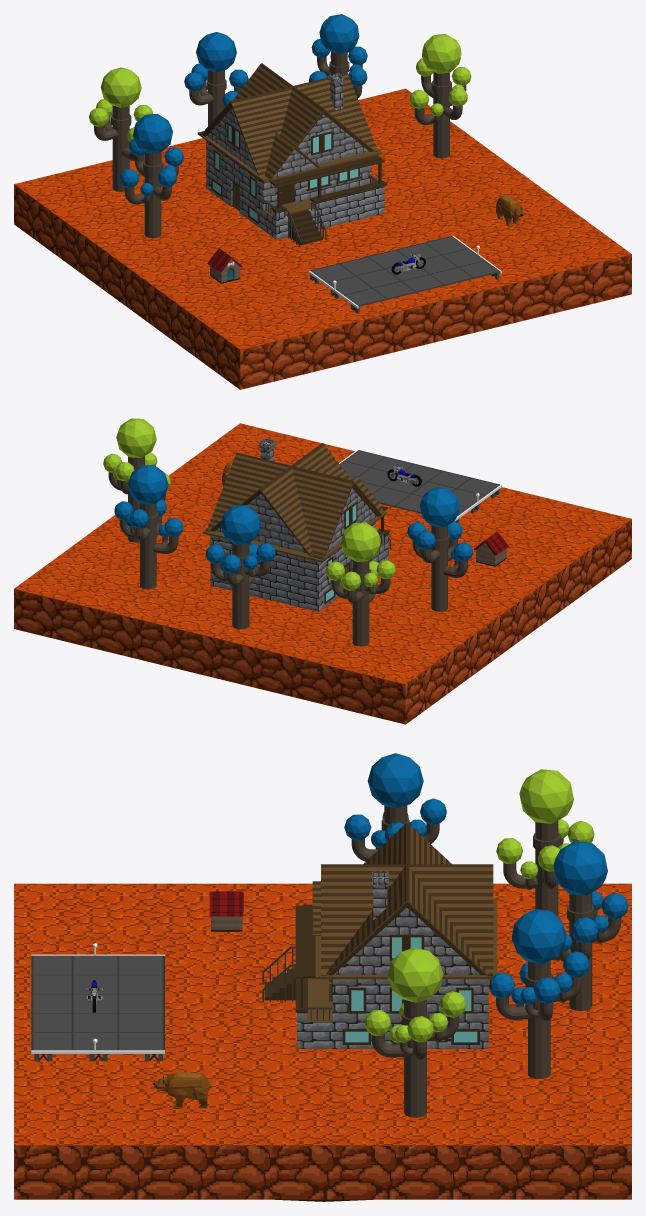
3 renders of one model, top to bottom at view 1: azimuth 30°, elevation 25°; view 2: azimuth 150°, elevation 25°; view 3: azimuth 270°, elevation 25°, orthographic. The views are drawn at different scales.
Parts seen in each view (by area): view 1: Cube.001, Cube.586, OBJRANDOM_DOGHOUSE, ANIMAL_OSO; view 2: Cube.001, Cube.586, OBJRANDOM_DOGHOUSE; view 3: Cube.001, Cube.586, ANIMAL_OSO, OBJRANDOM_DOGHOUSE.
Boxes of the visible parts, <box> form: Cube.001: <box>14,14,631,389</box>; Cube.586: <box>197,63,387,246</box>; OBJRANDOM_DOGHOUSE: <box>207,248,242,283</box>; ANIMAL_OSO: <box>496,195,524,226</box>; Cube.001: <box>14,418,631,724</box>; Cube.586: <box>202,438,390,611</box>; OBJRANDOM_DOGHOUSE: <box>473,531,508,566</box>; Cube.001: <box>14,753,631,1199</box>; Cube.586: <box>262,823,497,1048</box>; ANIMAL_OSO: <box>153,1072,211,1108</box>; OBJRANDOM_DOGHOUSE: <box>209,891,243,931</box>.
Size of the model in its own units: 4000 by 1730 by 4000.
Materials: 34 (5 with a texture image).
